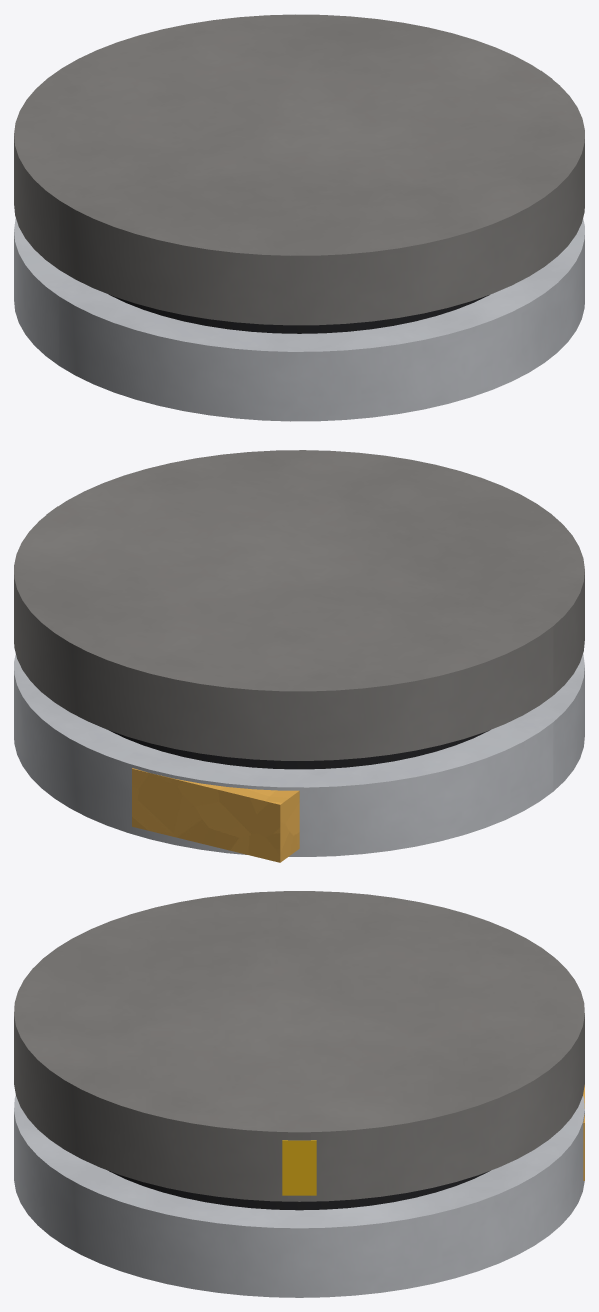
Rendered from robo01_rotor_m.glb.
3 renders of one model, top to bottom at view 1: azimuth 30°, elevation 25°; view 2: azimuth 150°, elevation 25°; view 3: azimuth 270°, elevation 25°, orthographic.
Visible parts, largest first — view 1: half_b_rotor, base, bearing; view 2: half_b_rotor, base, drive, bearing; view 3: half_b_rotor, base, bearing, half_b_mark.
Boxes of the visible parts, x1,y1,x2,y2 form: half_b_rotor: (14,14,584,325); base: (14,218,584,421); bearing: (109,294,489,333); half_b_rotor: (14,450,584,760); base: (14,654,584,856); drive: (132,768,299,862); bearing: (109,730,489,769); half_b_rotor: (14,891,584,1201); base: (14,1095,584,1297); bearing: (109,1170,490,1210); half_b_mark: (282,1140,316,1195).
Bounding box in the file's own units: 1.25 × 0.4 × 1.25.
Materials: 6 (3 with a texture image).
